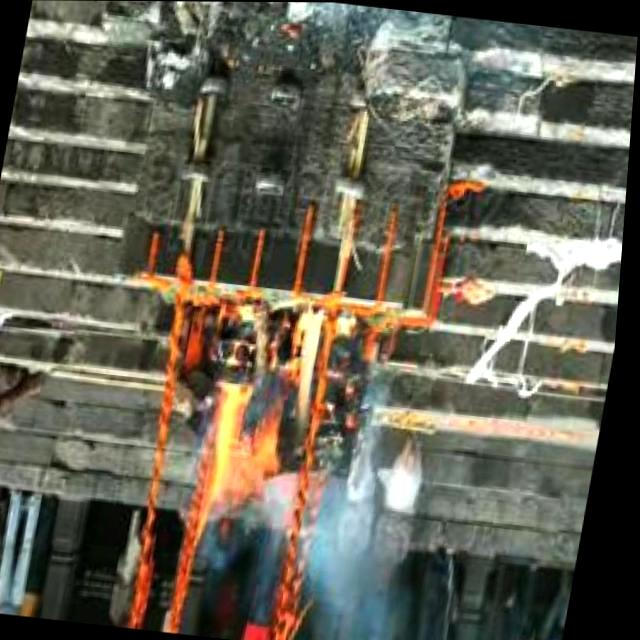fire: (195, 293, 335, 543)
